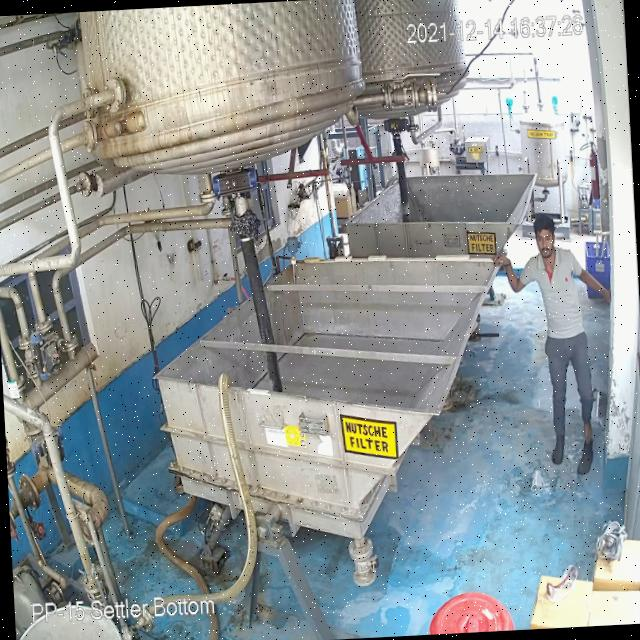boots: (573, 439, 601, 484), (546, 430, 570, 471)
no-boots: (578, 406, 596, 446)
